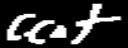cat: (0, 0, 128, 48)
